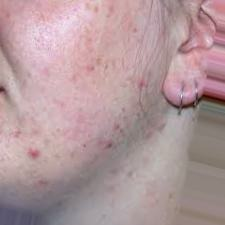Acne: (23, 9, 149, 178)
